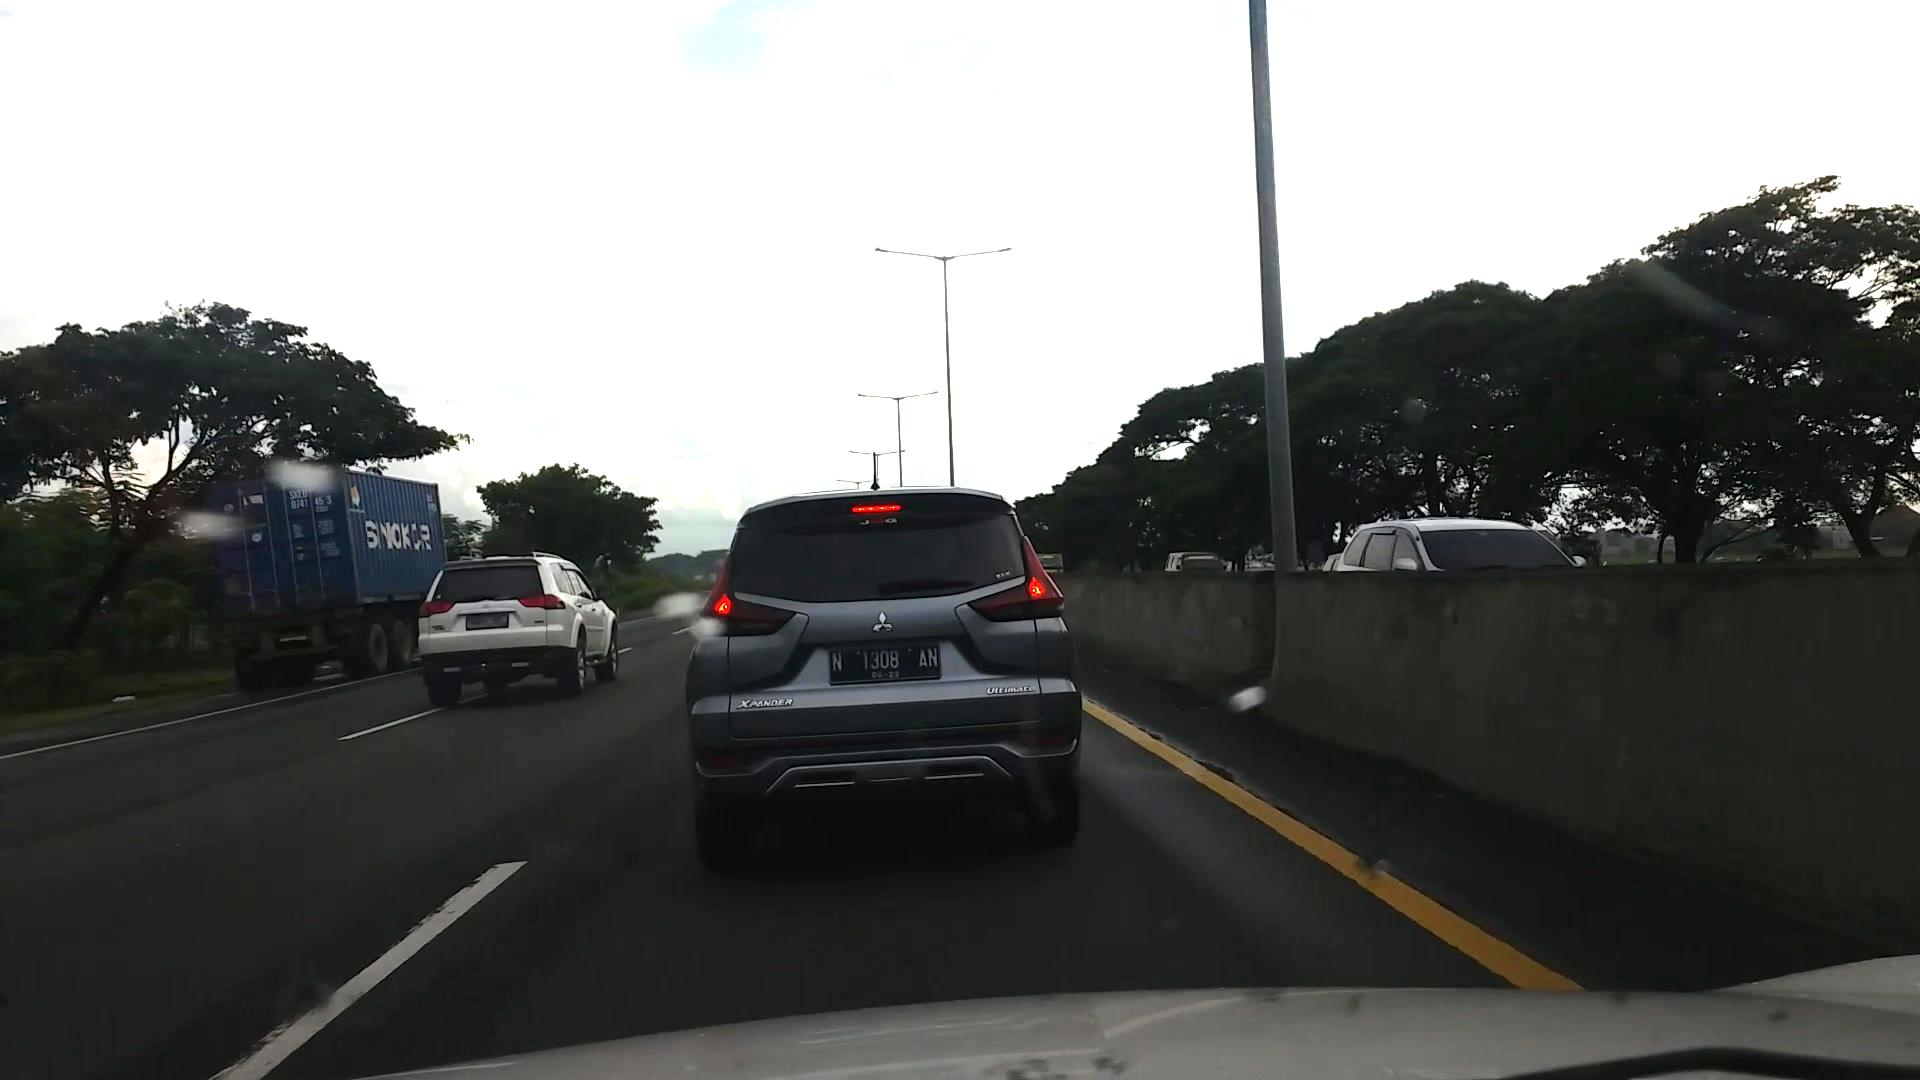plate_positive: (829, 644, 940, 682)
